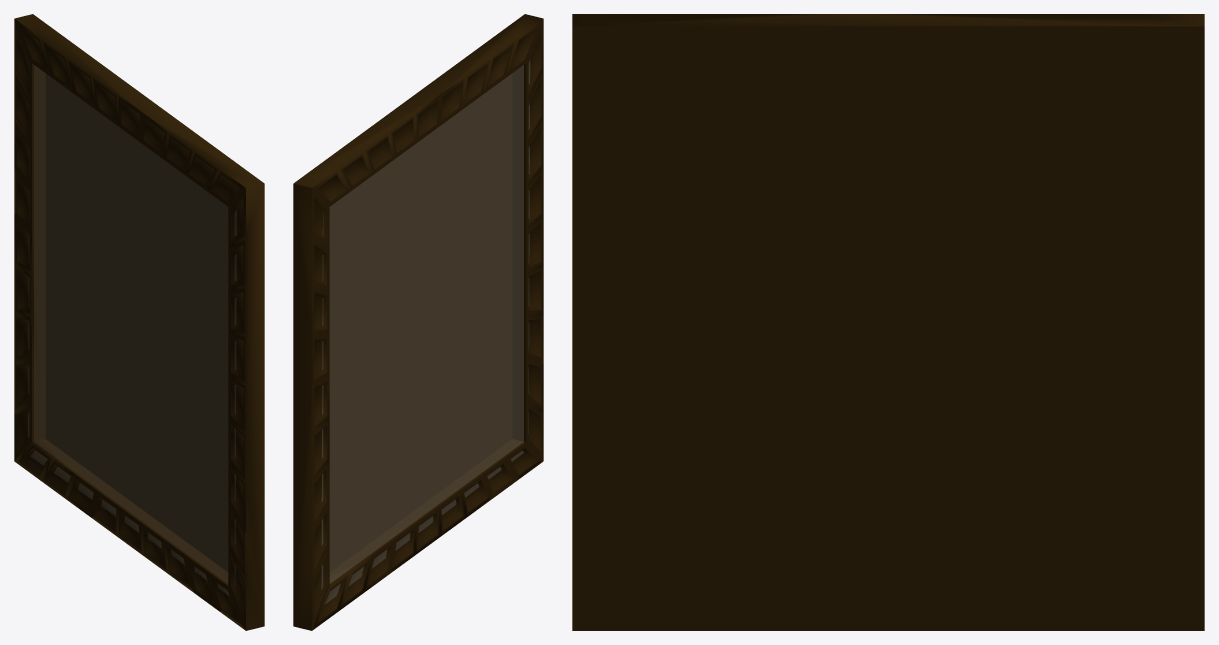
Rendered from Cuadro.fbx.
3 views of the same model, side by side, from view 1: azimuth 30°, elevation 25°; view 2: azimuth 150°, elevation 25°; view 3: azimuth 270°, elevation 25° (orthographic). The views are drawn at different scales.
Visible parts, largest first — view 1: Cuadro; view 2: Cuadro; view 3: Cuadro.
Boxes of the visible parts, x1,y1,x2,y2 form: Cuadro: (14, 14, 264, 630); Cuadro: (293, 14, 543, 630); Cuadro: (572, 14, 1204, 630).
Size of the model in its own units: 3.8 by 86.36 by 81.89.
